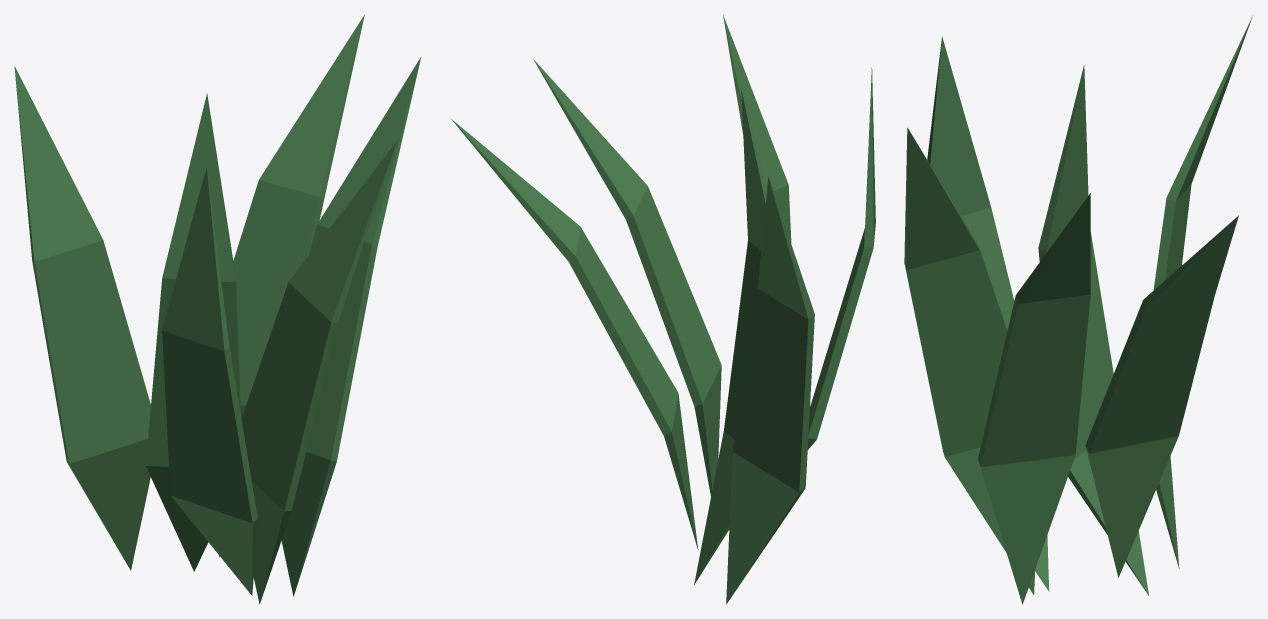
File: Seaweed_010.glb
The picture shows the model from 3 angles, left to right: view 1: azimuth 30°, elevation 25°; view 2: azimuth 150°, elevation 25°; view 3: azimuth 270°, elevation 25°; orthographic projection. The views are drawn at different scales.
Visible parts, largest first — view 1: Seaweed_010; view 2: Seaweed_010; view 3: Seaweed_010.
Part boxes in pixels (box(x1,y1,x2,y2)): Seaweed_010: box(14, 14, 421, 604); Seaweed_010: box(450, 15, 875, 604); Seaweed_010: box(904, 16, 1252, 604).
Bounding box in the file's own units: 0.5169 × 0.6994 × 0.423.
1 material, 1 textured.
